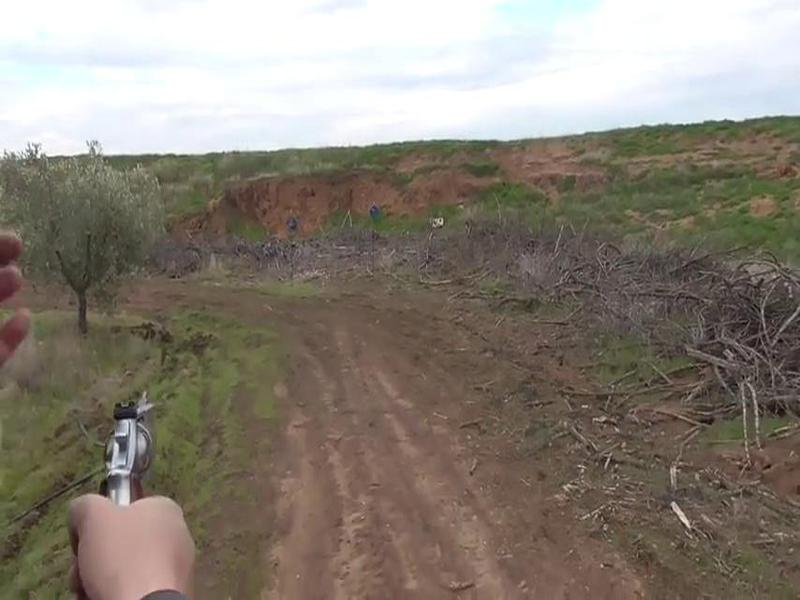Revolver: (86, 388, 169, 507)
